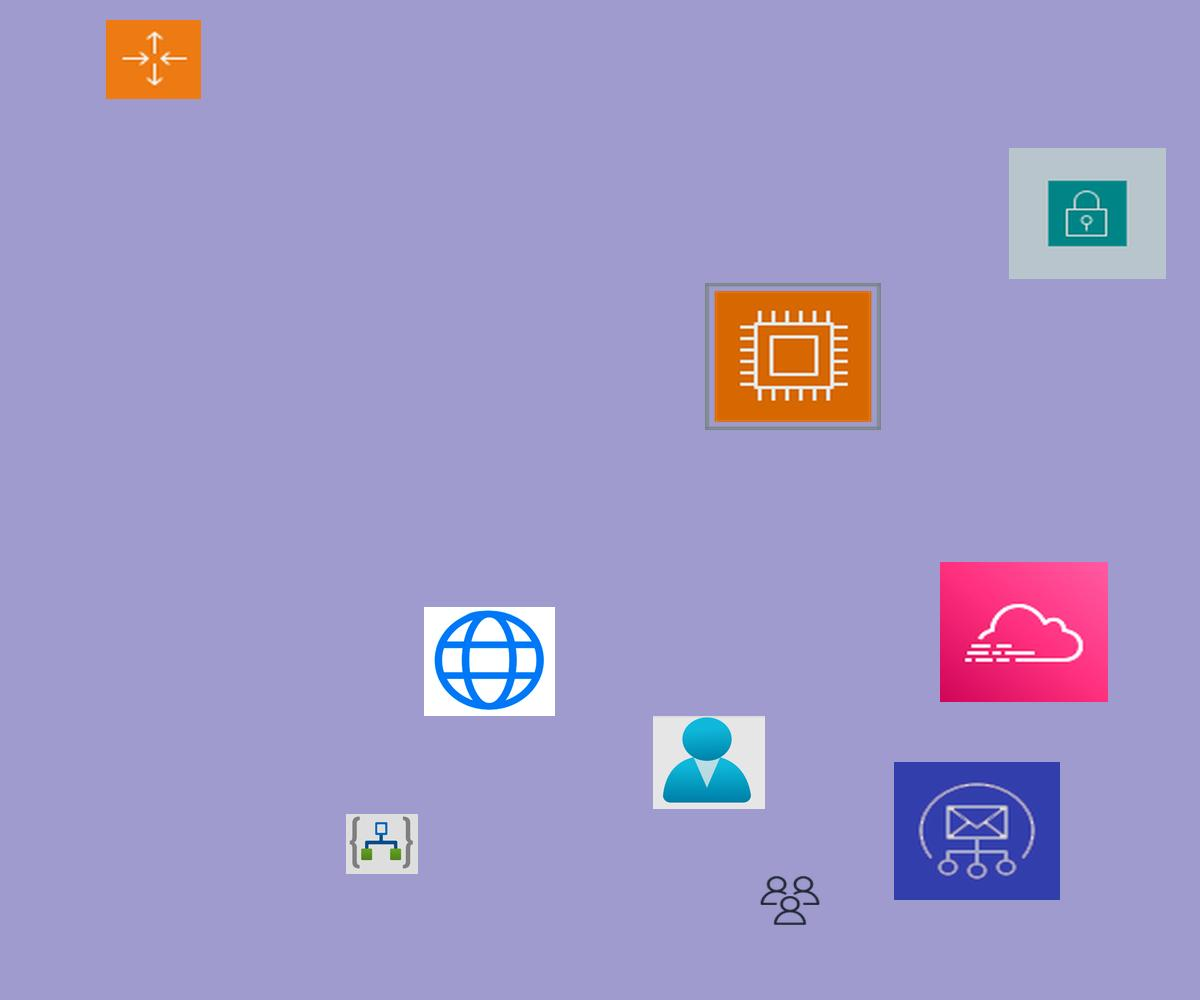AWS-Category_Compute: (705, 283, 881, 430)
AWS-CloudTrail: (940, 562, 1108, 702)
AWS-Private-subnet: (1009, 148, 1166, 279)
AWS-Res_Users: (758, 874, 822, 927)
AWS-Scaling-group: (106, 20, 201, 99)
AWS-Simple-Email-Service: (894, 762, 1060, 900)
Azure_http: (424, 607, 555, 716)
Azure_integration-204-Logic-Apps: (346, 814, 418, 874)
Azure_users: (653, 716, 765, 809)
